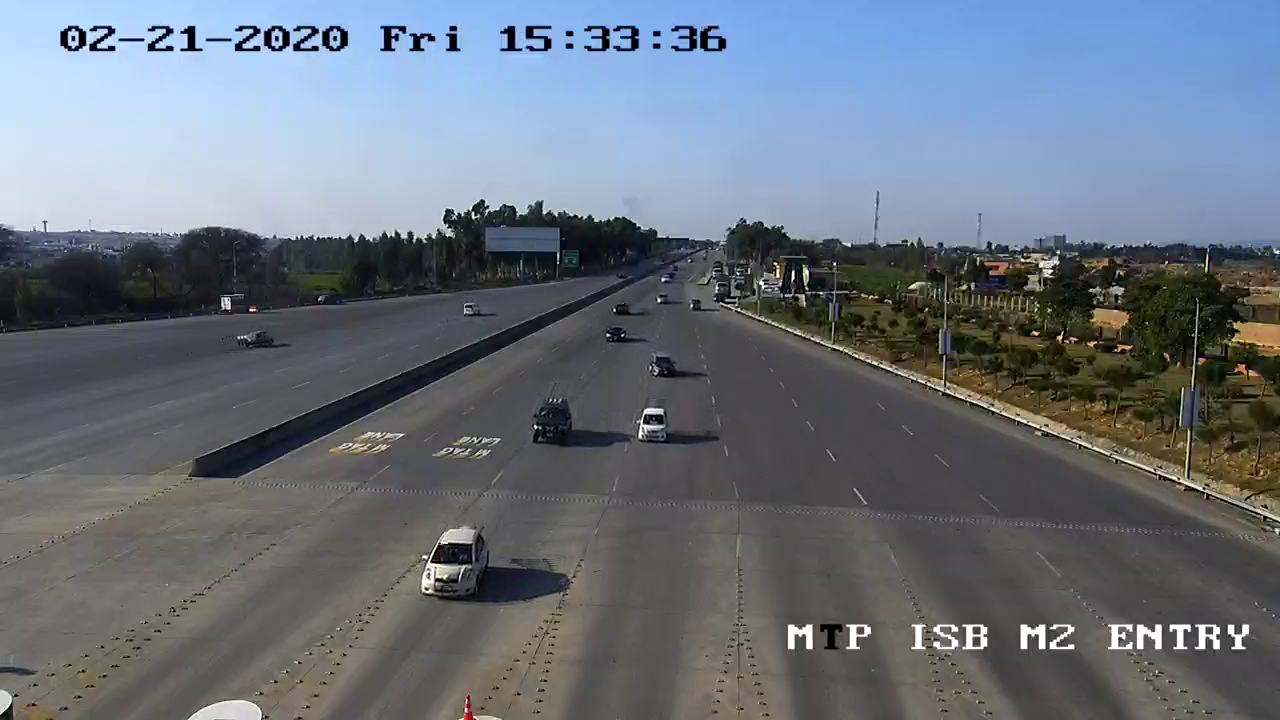f1: (414, 520, 497, 614), (520, 381, 586, 454), (628, 400, 680, 448)
